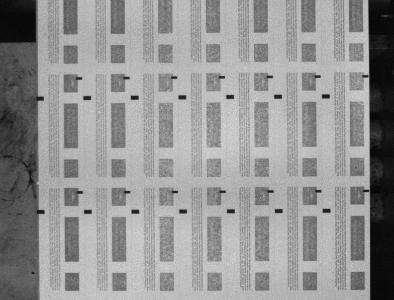backgroundclutter: (31, 271, 35, 274)
qblock: (131, 209, 140, 214), (37, 209, 45, 214), (84, 209, 92, 214), (131, 95, 139, 100), (274, 94, 282, 99), (323, 208, 331, 213), (36, 96, 44, 101), (179, 209, 188, 213), (226, 95, 234, 99), (179, 95, 187, 99), (275, 209, 283, 213), (83, 96, 91, 100), (322, 94, 330, 98), (227, 209, 235, 213)
smallqblock: (219, 75, 226, 79), (77, 190, 83, 194), (123, 76, 130, 79), (171, 76, 178, 79), (124, 190, 131, 193), (363, 189, 370, 192), (172, 190, 179, 193), (267, 75, 273, 78), (268, 190, 274, 193), (76, 77, 82, 80), (363, 75, 369, 78), (315, 75, 321, 78), (220, 190, 226, 193), (316, 189, 322, 192)
